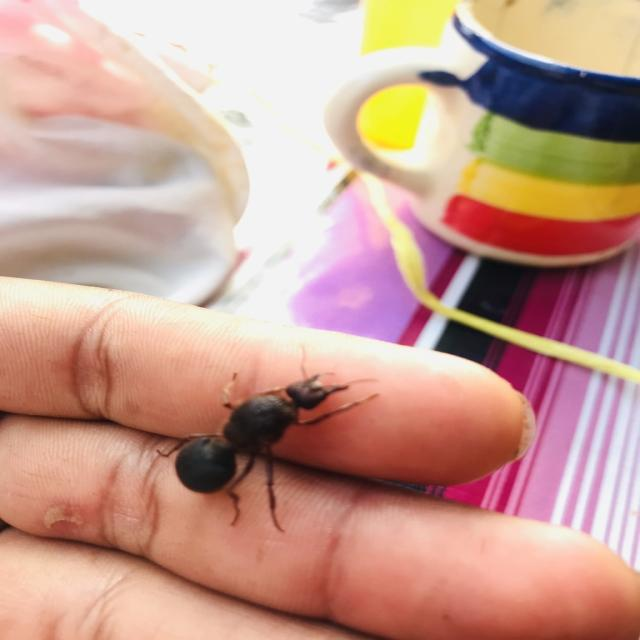Alive-Female-Dealate: (155, 342, 381, 532)
